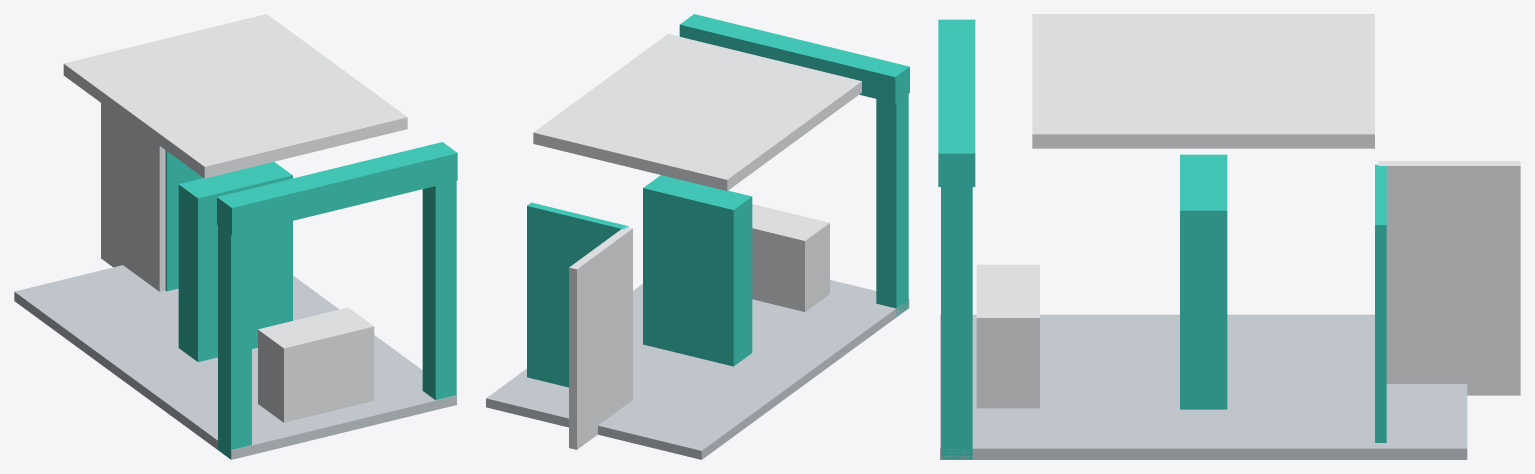
3 views of the same model, side by side, from view 1: azimuth 30°, elevation 25°; view 2: azimuth 150°, elevation 25°; view 3: azimuth 270°, elevation 25° (orthographic). The views are drawn at different scales.
Visible parts, largest first — view 1: Exhibition Booth Concept; view 2: Exhibition Booth Concept; view 3: Exhibition Booth Concept.
Part boxes in pixels (bbox=[...]): Exhibition Booth Concept: bbox=[14, 14, 457, 459]; Exhibition Booth Concept: bbox=[486, 14, 909, 459]; Exhibition Booth Concept: bbox=[938, 14, 1520, 459].
Bounding box in the file's own units: 3 × 3.34 × 5.52.
